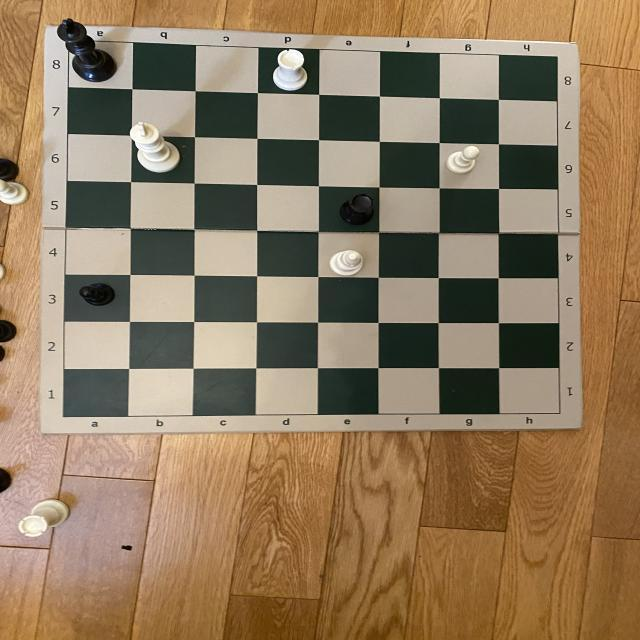chess-table-corners: (56, 408, 70, 421), (550, 52, 564, 62), (556, 409, 566, 417)
